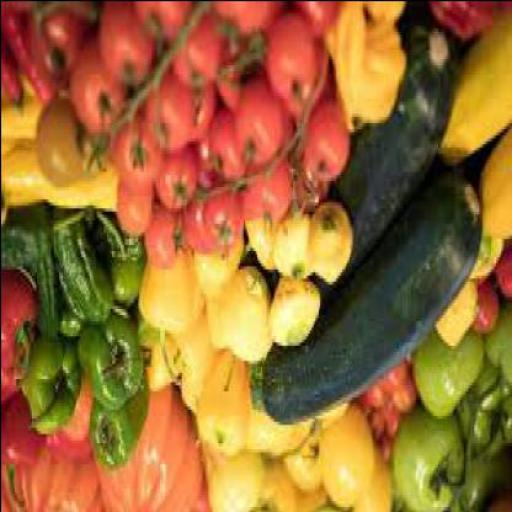biodegradable: (248, 164, 476, 426), (311, 18, 456, 314), (90, 390, 205, 511), (437, 3, 511, 156), (324, 3, 403, 137), (1, 143, 111, 214), (51, 208, 111, 330), (390, 411, 462, 511), (1, 439, 101, 511), (73, 314, 140, 411), (135, 246, 201, 342), (410, 332, 480, 421), (34, 104, 104, 190), (68, 36, 125, 138), (20, 341, 81, 436), (27, 2, 92, 88), (263, 8, 312, 122), (0, 4, 52, 110), (194, 356, 248, 458), (86, 384, 147, 473), (97, 2, 155, 95), (89, 214, 145, 310), (216, 268, 270, 366), (457, 362, 510, 458), (322, 405, 370, 509), (168, 6, 226, 92), (0, 392, 43, 506), (448, 444, 512, 511), (198, 442, 259, 511), (298, 100, 346, 186), (142, 67, 188, 156), (305, 204, 350, 290), (268, 277, 319, 351), (2, 206, 56, 274), (246, 408, 312, 462), (110, 116, 158, 190), (177, 58, 217, 146), (430, 281, 476, 357), (0, 274, 34, 371), (270, 450, 324, 511), (239, 159, 290, 223), (152, 144, 198, 214), (286, 42, 324, 125), (205, 104, 244, 183), (191, 234, 239, 296), (231, 3, 280, 61), (215, 39, 251, 116), (269, 214, 311, 278), (282, 427, 322, 494), (351, 444, 391, 511), (0, 94, 43, 156), (169, 320, 211, 382), (135, 3, 186, 52), (111, 176, 150, 240), (142, 204, 179, 271), (481, 304, 511, 384), (202, 192, 239, 254), (426, 3, 488, 36), (181, 189, 210, 259), (0, 22, 21, 112), (34, 265, 58, 342), (291, 159, 326, 210), (144, 336, 177, 390), (61, 381, 90, 442), (189, 134, 218, 195), (470, 274, 496, 341), (44, 430, 91, 466), (293, 3, 338, 40), (466, 241, 500, 286), (244, 222, 272, 272), (257, 454, 281, 511), (377, 362, 408, 400), (384, 378, 414, 417), (362, 2, 401, 31), (491, 244, 510, 302), (177, 366, 198, 417), (56, 305, 84, 341), (212, 3, 242, 36), (205, 287, 218, 351), (85, 140, 105, 178), (314, 408, 341, 433), (365, 412, 385, 445), (0, 372, 21, 402), (360, 387, 382, 412), (382, 408, 398, 439), (486, 494, 512, 510), (350, 396, 364, 421), (377, 442, 391, 466), (491, 3, 511, 18)
